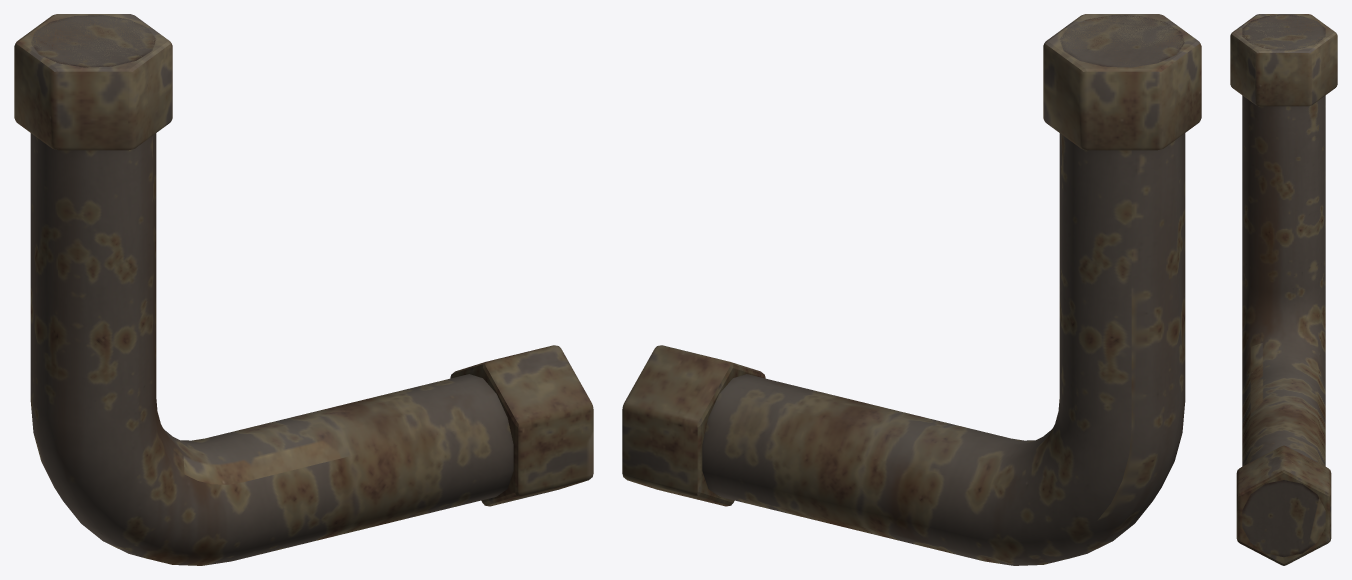
File: Pipe_Small_Elbow.fbx
3 renders of one model, left to right at view 1: azimuth 30°, elevation 25°; view 2: azimuth 150°, elevation 25°; view 3: azimuth 270°, elevation 25°, orthographic. The views are drawn at different scales.
Visible parts, largest first — view 1: Pipe_Small_Elbow_Mesh; view 2: Pipe_Small_Elbow_Mesh; view 3: Pipe_Small_Elbow_Mesh.
Part boxes in pixels (left/top/right/bottom): Pipe_Small_Elbow_Mesh: left=14, top=14, right=593, bottom=565; Pipe_Small_Elbow_Mesh: left=622, top=14, right=1201, bottom=565; Pipe_Small_Elbow_Mesh: left=1230, top=14, right=1337, bottom=565.
Size of the model in its own units: 0.3388 by 0.344 by 0.088.
